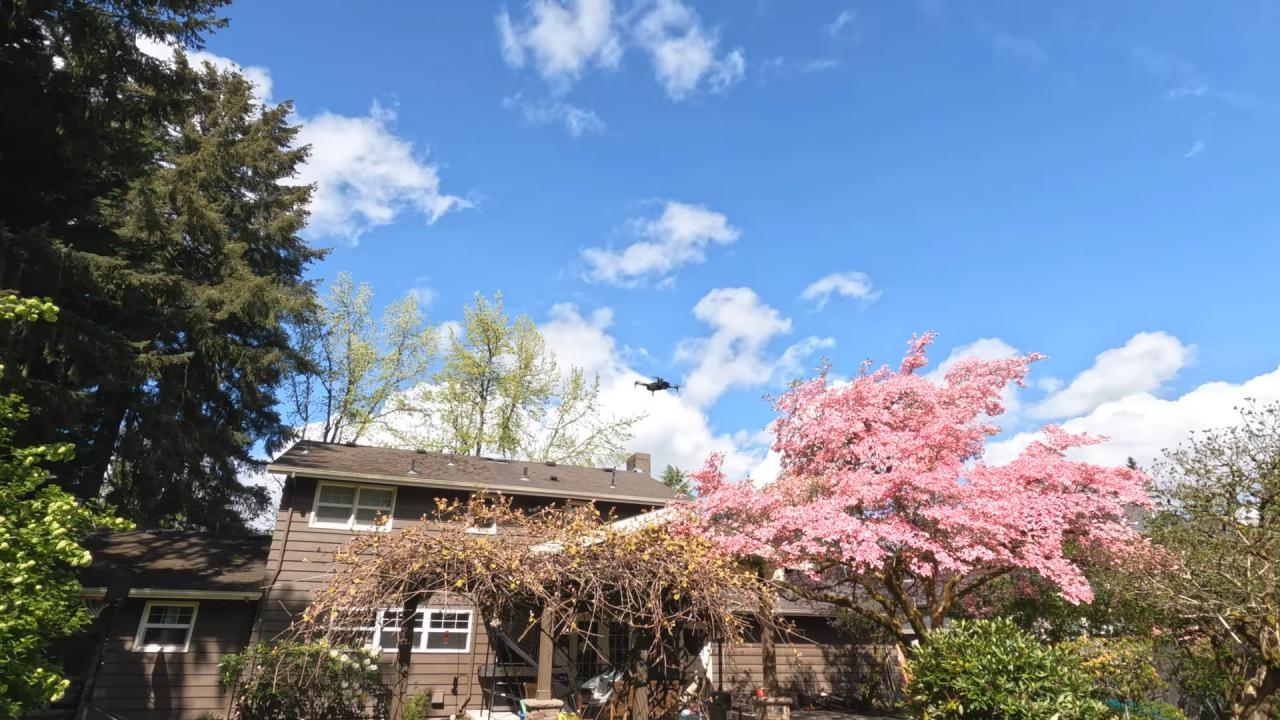Drone: (619, 370, 695, 408)
